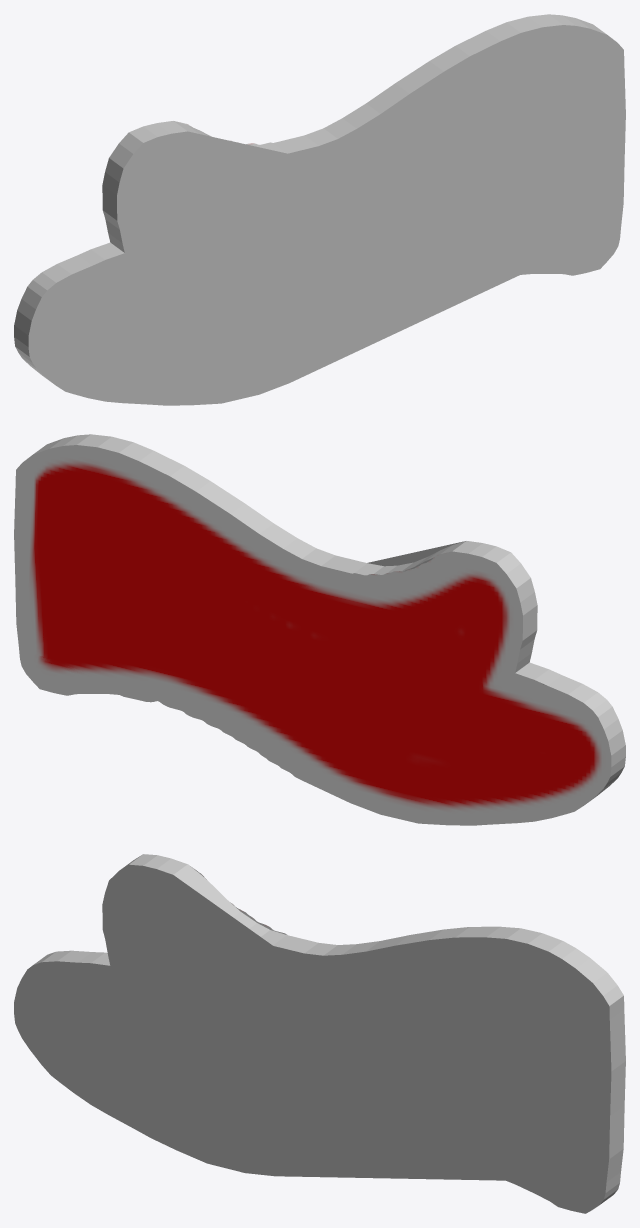
Rendered from flag.fbx.
3 renders of one model, top to bottom at view 1: azimuth 30°, elevation 25°; view 2: azimuth 150°, elevation 25°; view 3: azimuth 330°, elevation 25°, orthographic.
Visible parts, largest first — view 1: flag; view 2: flag; view 3: flag.
Part boxes in pixels (box(x1,y1,x2,y2)): flag: box(14, 14, 625, 405); flag: box(14, 434, 625, 825); flag: box(14, 854, 625, 1213).
Bounding box in the file's own units: 123 × 58.76 × 5.19.
